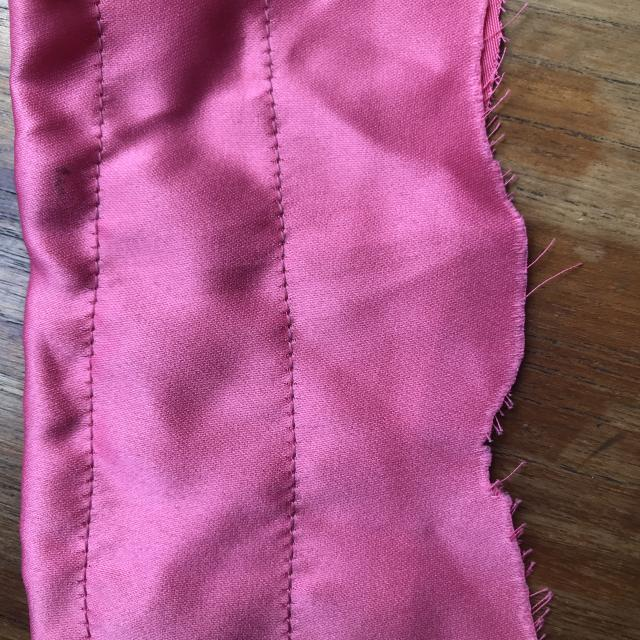good: (252, 29, 288, 166)
